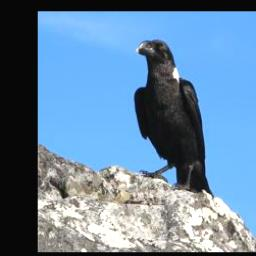Crow: (132, 36, 215, 200)
